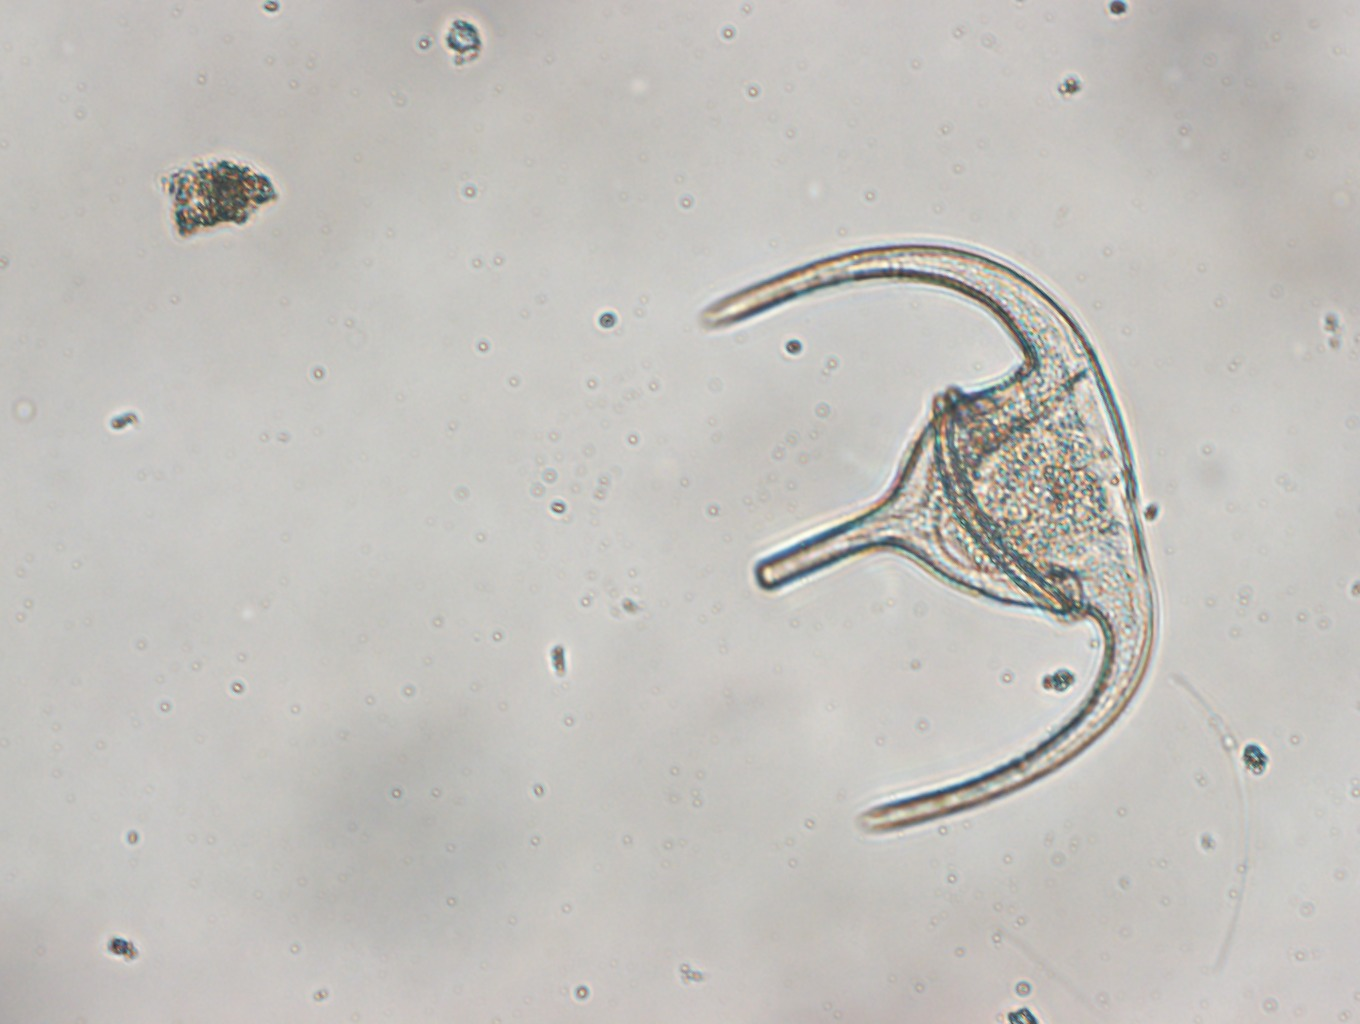ceratium tripos: (697, 241, 1160, 835)
